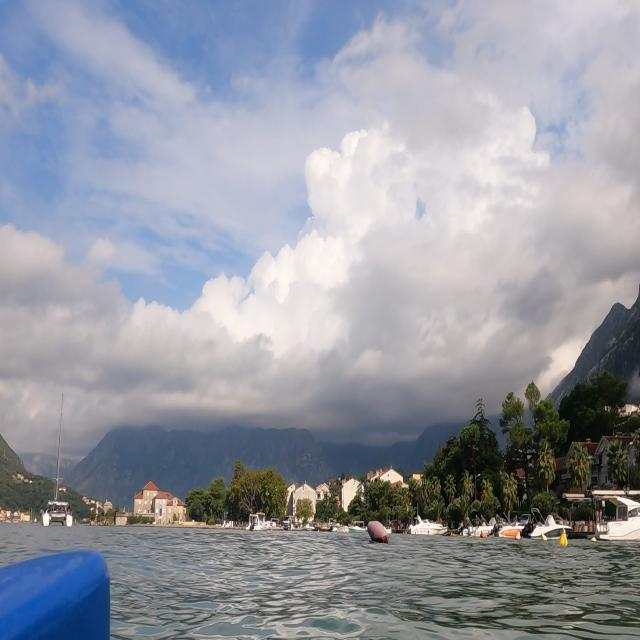boat: (41, 383, 84, 544), (462, 501, 578, 551), (583, 482, 640, 558), (407, 508, 454, 544)
buoy: (362, 510, 394, 556)
